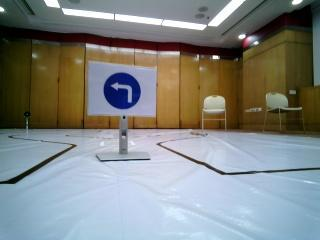left: (93, 65, 152, 112)
